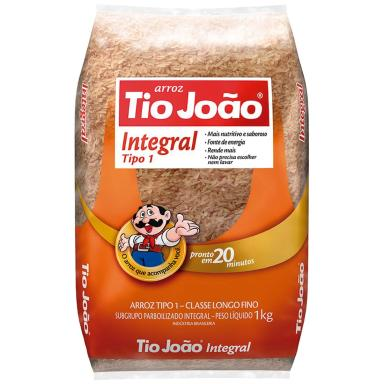rice package: (76, 6, 307, 378)
